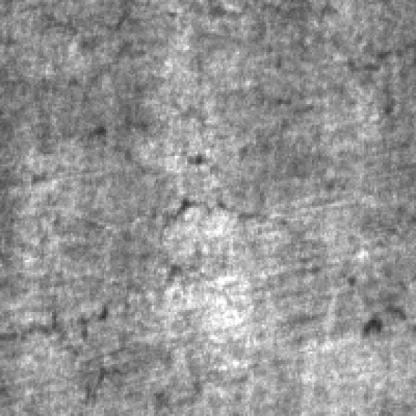crazing: (0, 291, 194, 402), (152, 190, 312, 296)
